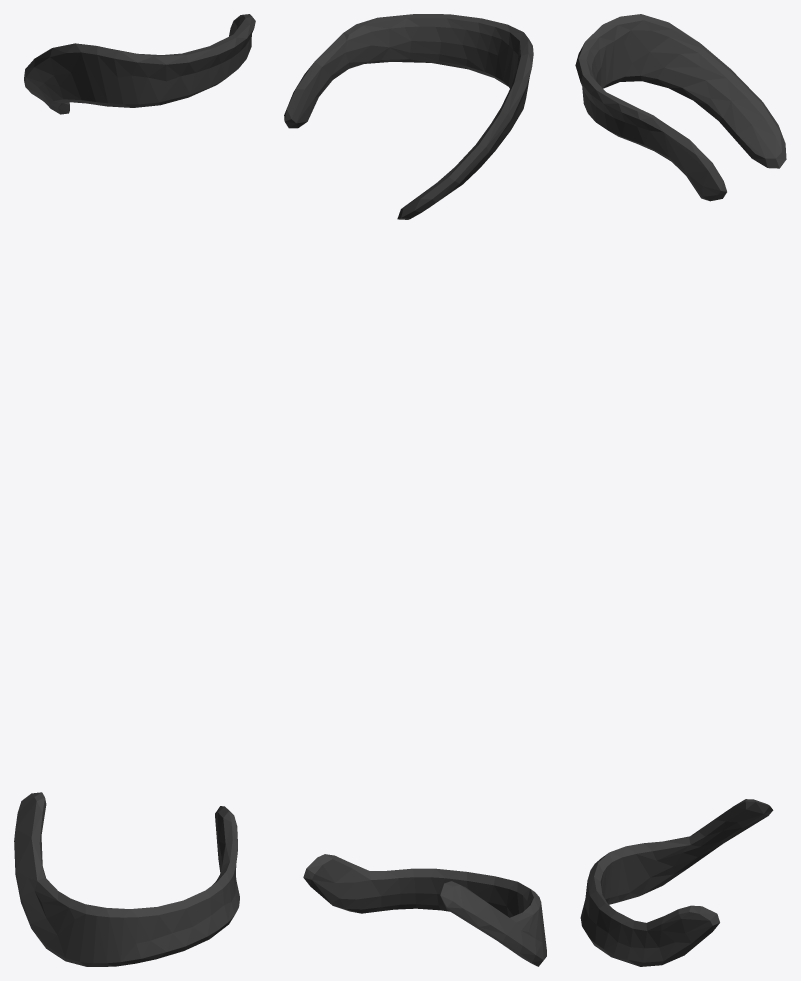
Rendered from Pelvis_lunate_surface.glb.
The picture shows the model from 3 angles, left to right: view 1: azimuth 30°, elevation 25°; view 2: azimuth 150°, elevation 25°; view 3: azimuth 270°, elevation 25°; orthographic projection. The views are drawn at different scales.
Parts seen in each view (by area): view 1: Pelvis_lunate_surface; view 2: Pelvis_lunate_surface; view 3: Pelvis_lunate_surface.
Part boxes in pixels (left/top/right/bottom): Pelvis_lunate_surface: left=14, top=14, right=255, bottom=966; Pelvis_lunate_surface: left=284, top=14, right=546, bottom=966; Pelvis_lunate_surface: left=575, top=14, right=786, bottom=966.
Bounding box in the file's own units: 1.05 × 3.99 × 0.856.
1 material, 1 textured.
